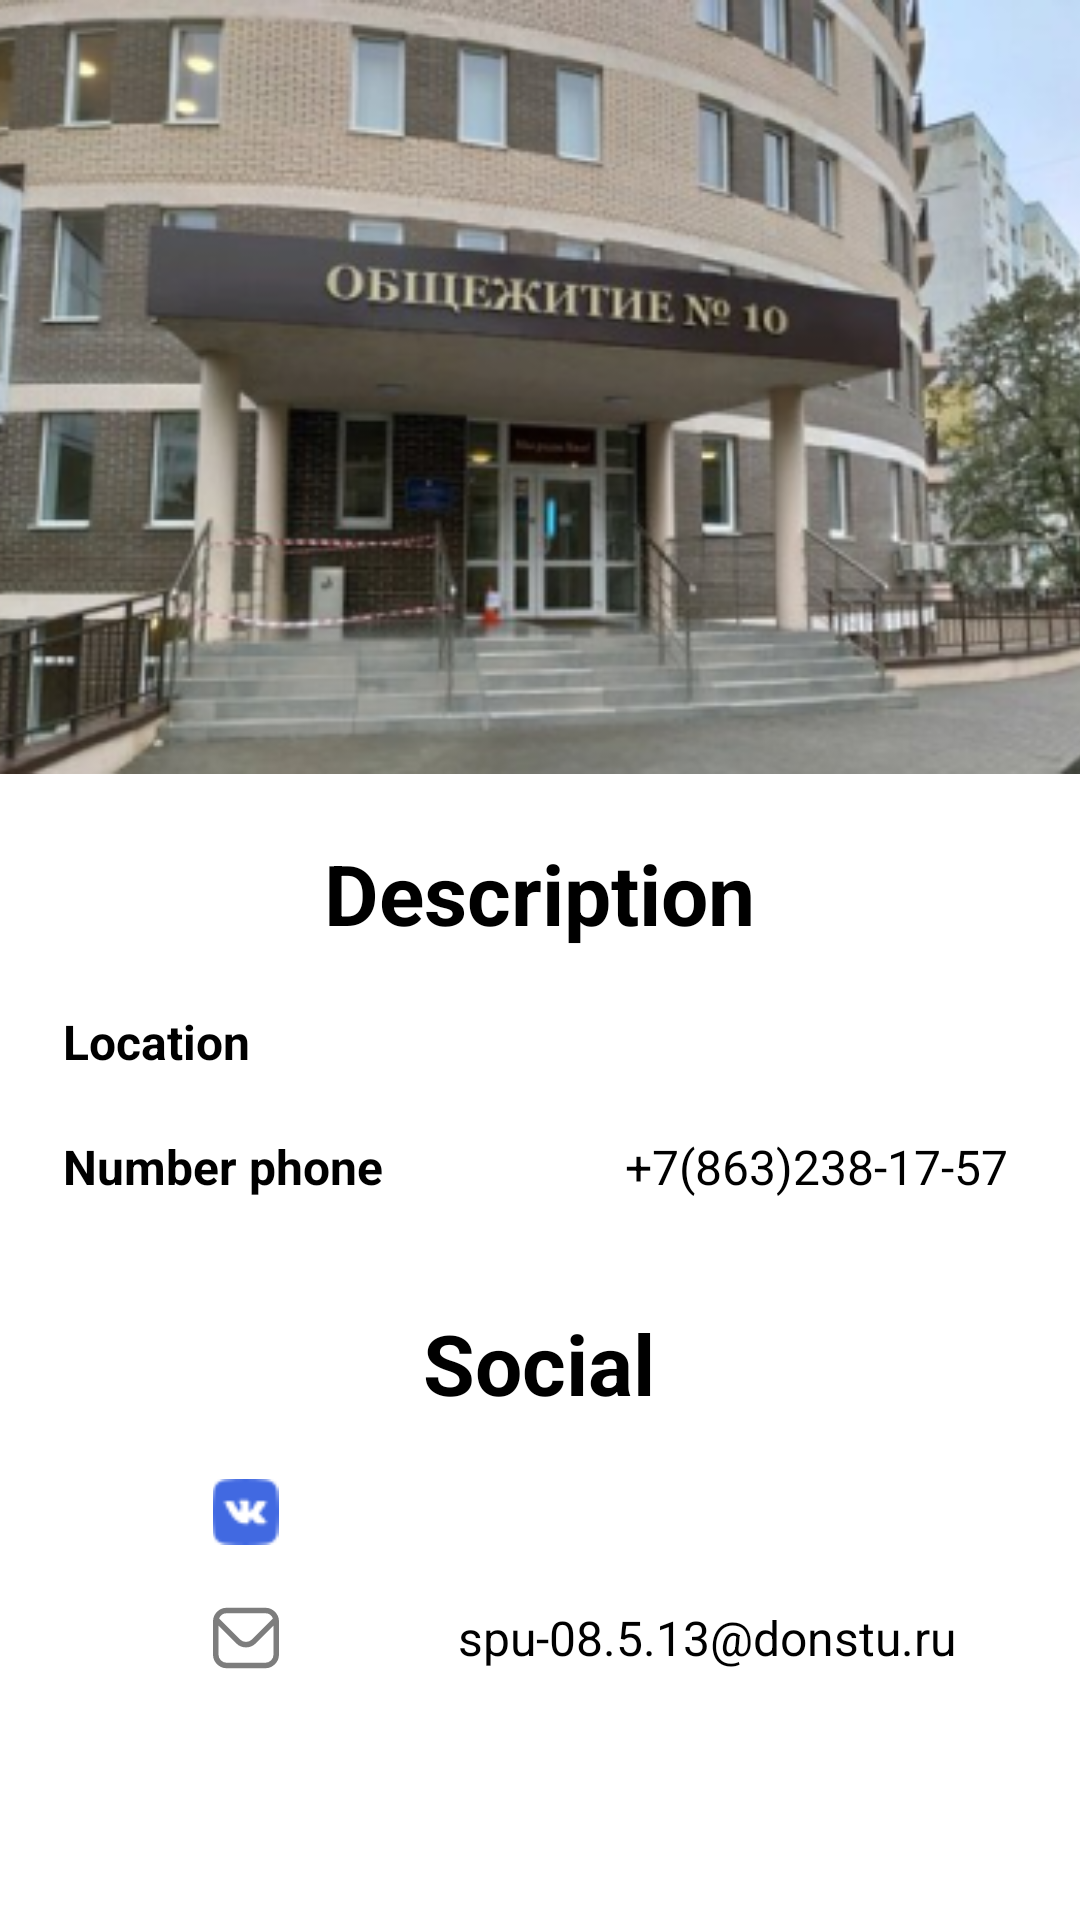

Icons on this 1080x1920 Android screen, each with the point to tap as [x,y]:
email: [246,1638]
